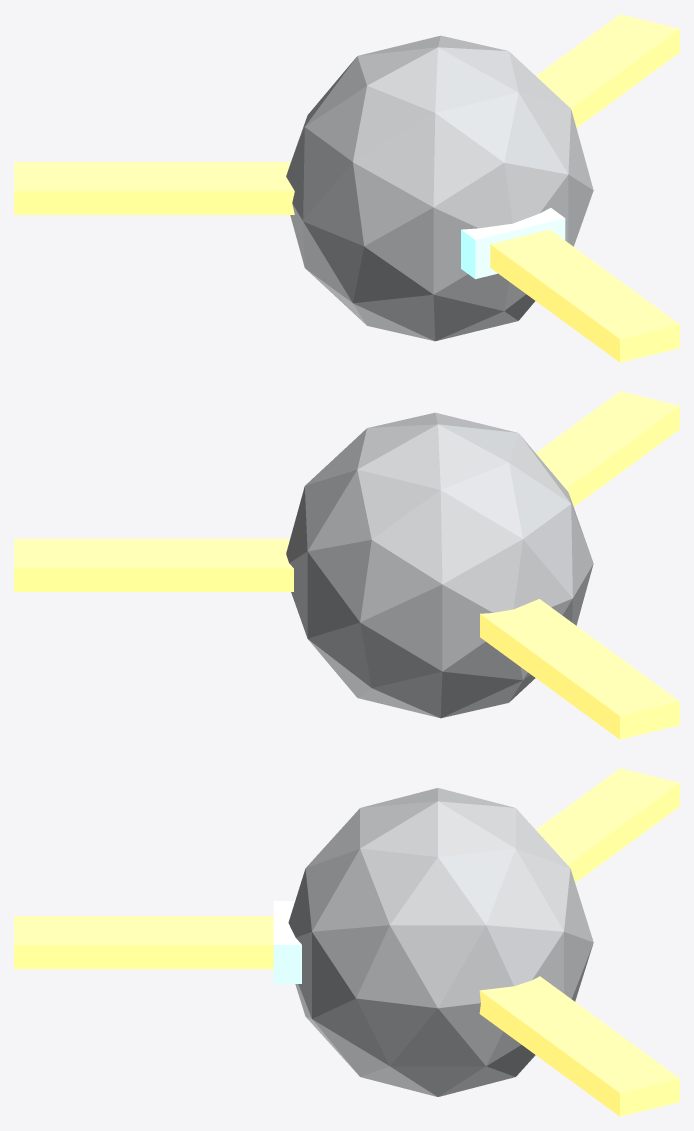
The model's file is drone.glb.
3 renders of one model, top to bottom at view 1: azimuth 30°, elevation 25°; view 2: azimuth 150°, elevation 25°; view 3: azimuth 270°, elevation 25°, orthographic.
Visible parts, largest first — view 1: core, rotor; view 2: core, rotor; view 3: core, rotor.
Part boxes in pixels (x1,y1,x2,y2): core: (286,35,593,341); rotor: (14,14,679,362); core: (286,412,593,718); rotor: (14,391,679,739); core: (273,788,593,1096); rotor: (14,768,679,1116).
Size of the model in its own units: 0.8887 by 0.36 by 0.7696.
